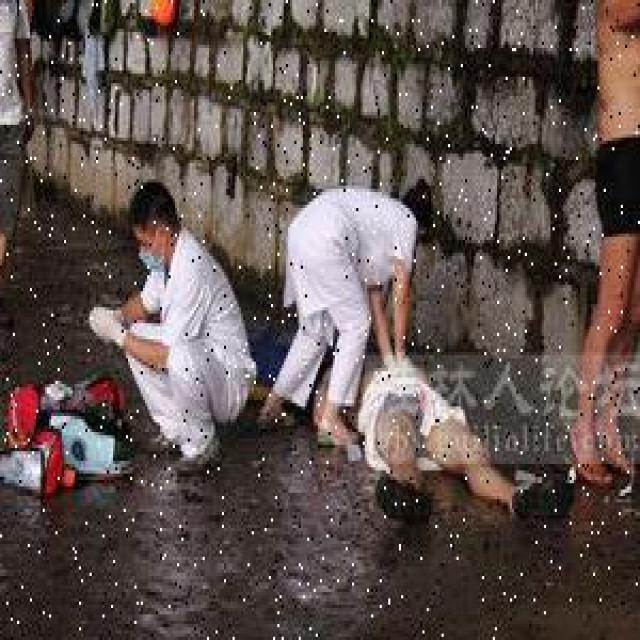fall: (320, 349, 559, 525)
